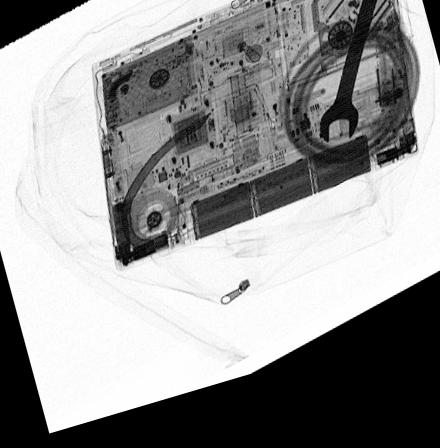Wrench: (319, 0, 394, 163)
